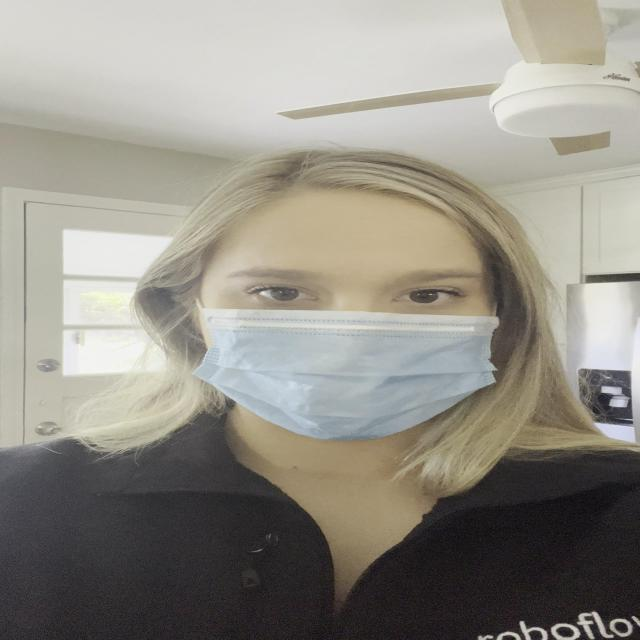no-helmet: (158, 167, 538, 457)
